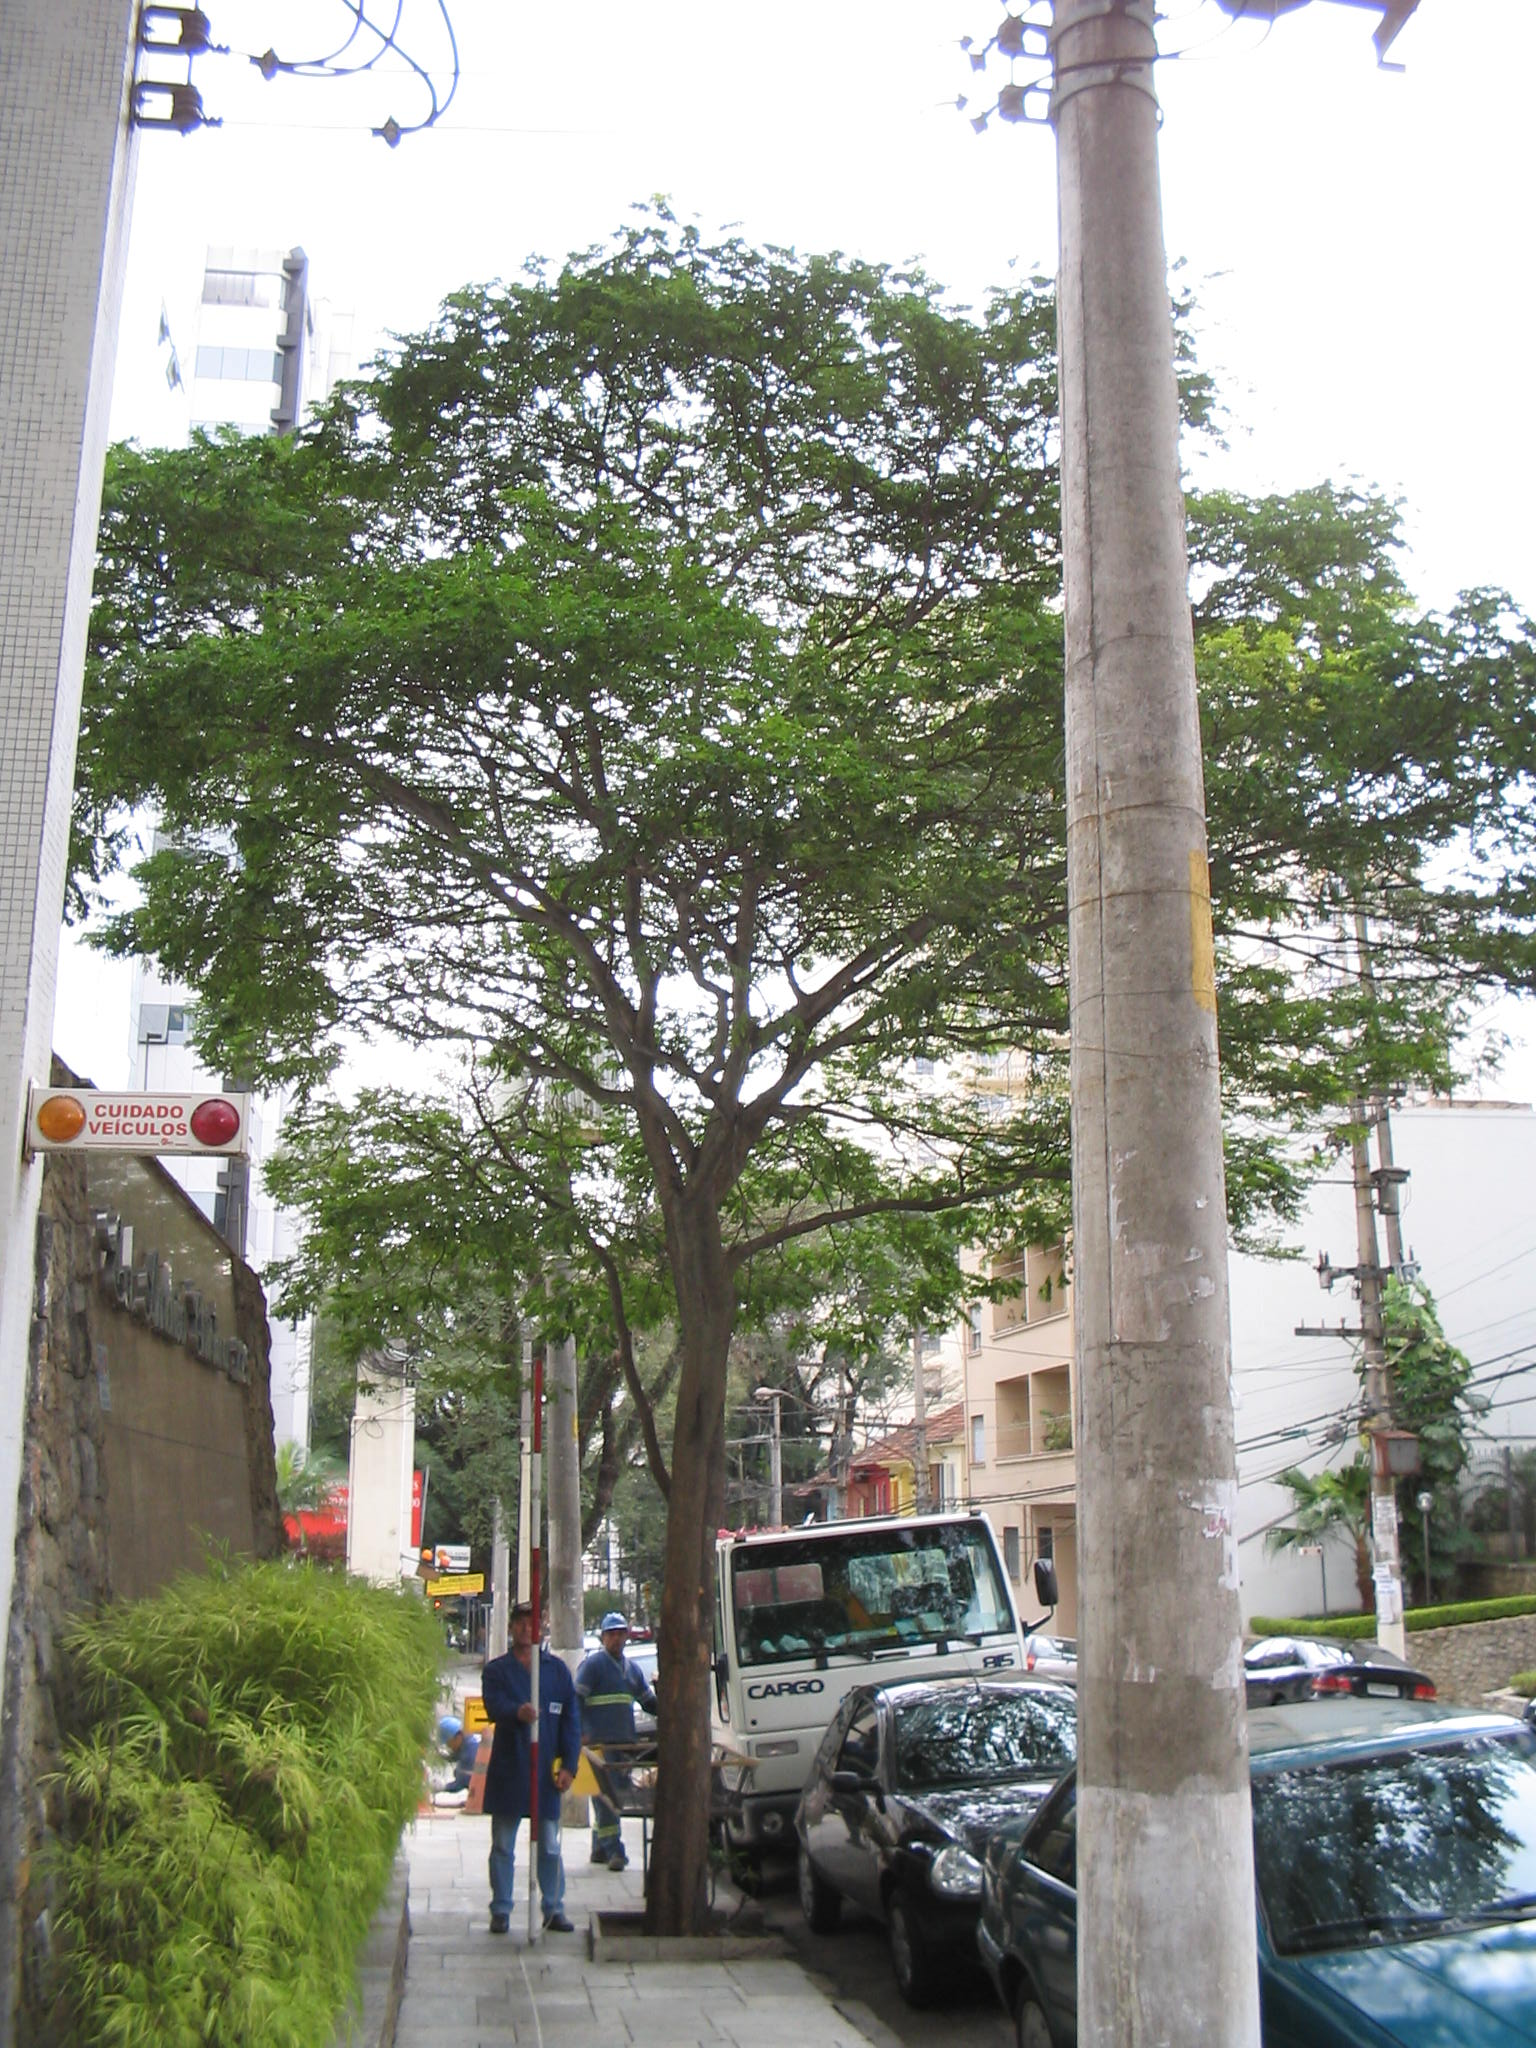crown: (90, 211, 1531, 1253)
stem: (582, 1211, 786, 1932)
stick: (495, 1361, 573, 1948)
tree: (86, 208, 1536, 1940)
